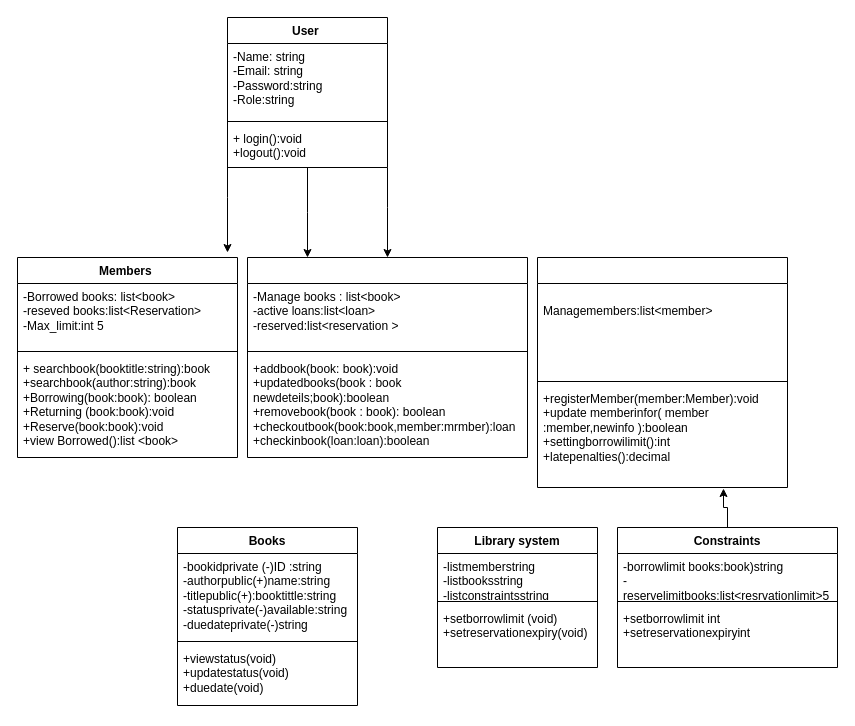
This 855x726 diagram has some shape labels left out. Each missing label, with the box of its shape:
Administrator: (536, 256, 788, 488)
Librarians: (246, 256, 528, 458)
